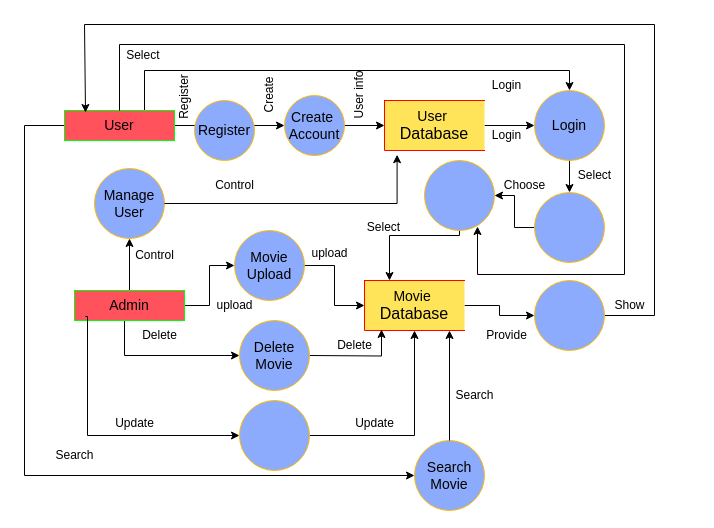
Image size: 714x528. Some labels were removed from this diagram. Each missing label, with the centre of its shape:
Select Favourite Genre: the point at 569,227
Select Movie: the point at 459,195
Update Movie: the point at 274,435
Watch Movie: the point at 569,315
